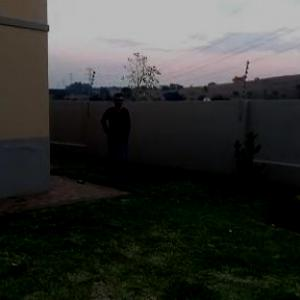follow: (99, 90, 131, 184)
